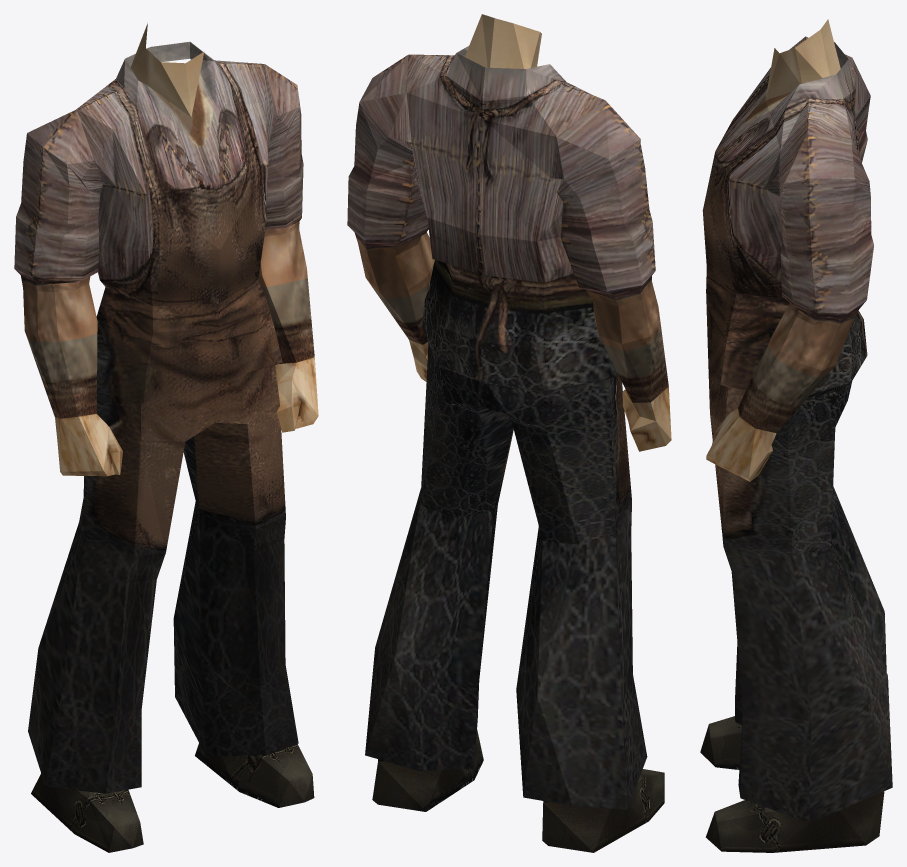
The model's file is Armor_Leather_L.glb.
3 views of the same model, side by side, from view 1: azimuth 30°, elevation 25°; view 2: azimuth 150°, elevation 25°; view 3: azimuth 270°, elevation 25° (orthographic). The views are drawn at different scales.
Visible parts, largest first — view 1: Armor_Leather_Lzm_Schmied; view 2: Armor_Leather_Lzm_Schmied; view 3: Armor_Leather_Lzm_Schmied.
Boxes of the visible parts, x1=… form: Armor_Leather_Lzm_Schmied: x1=14, y1=23, x2=318, y2=852; Armor_Leather_Lzm_Schmied: x1=347, y1=14, x2=671, y2=852; Armor_Leather_Lzm_Schmied: x1=700, y1=19, x2=892, y2=852.
Size of the model in its own units: 0.6415 by 1.69 by 0.3761.
Materials: 2 (2 with a texture image).
